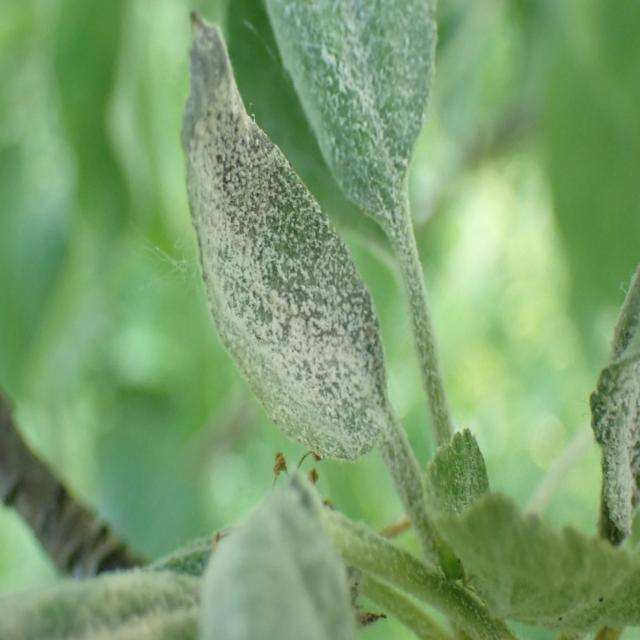Powdery_mildew: (173, 14, 408, 554), (258, 0, 498, 379), (137, 468, 381, 640), (563, 233, 640, 612), (0, 529, 228, 640)
